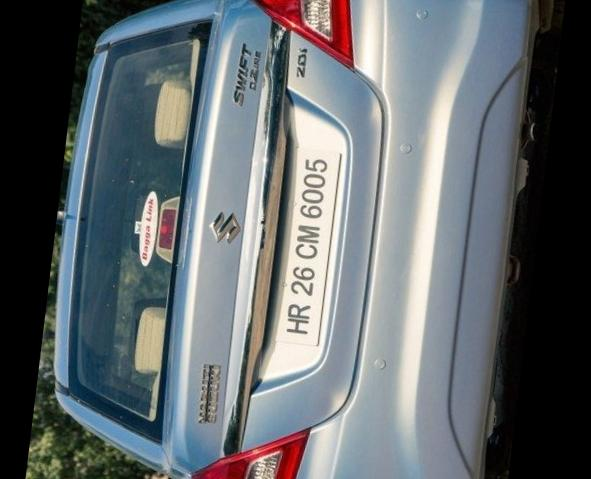plate: (260, 133, 364, 362)
